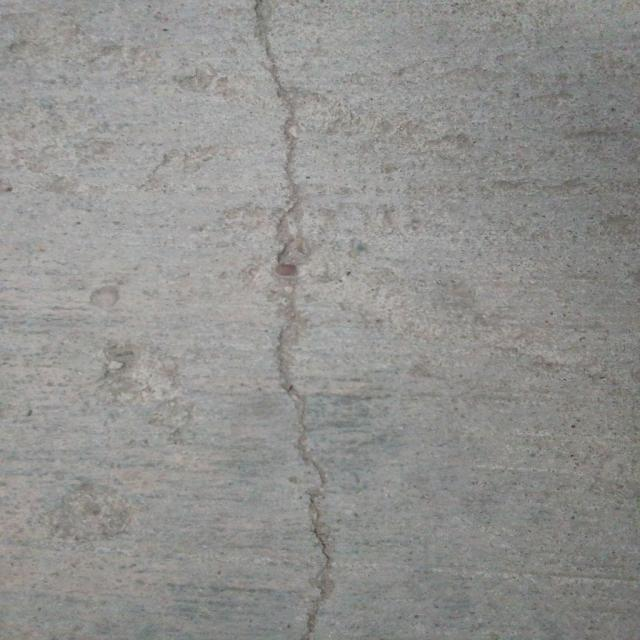cracks: (234, 0, 364, 640)
